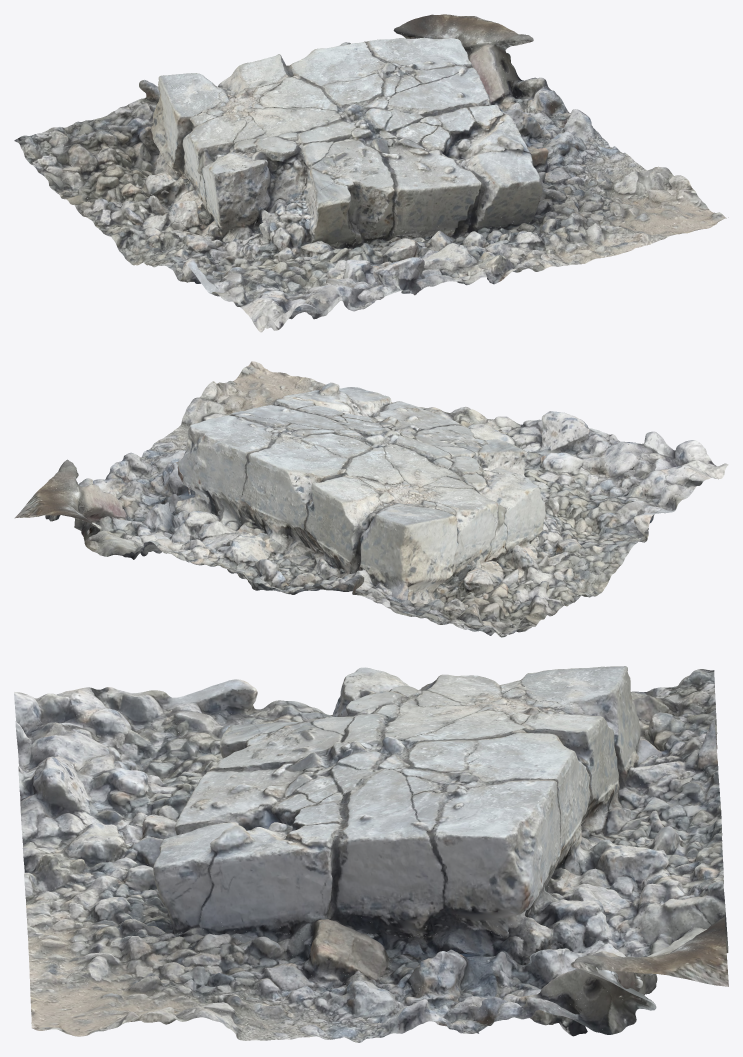
Rendered from cracked_concrete_block2.glb.
The picture shows the model from 3 angles, top to bottom: view 1: azimuth 30°, elevation 25°; view 2: azimuth 150°, elevation 25°; view 3: azimuth 270°, elevation 25°; orthographic projection. The views are drawn at different scales.
Parts seen in each view (by area): view 1: Object_2, Object_3; view 2: Object_2, Object_3; view 3: Object_2, Object_3.
Part boxes in pixels (x1=…): Object_2: x1=14, y1=14, x2=726, y2=332; Object_3: x1=18, y1=14, x2=708, y2=303; Object_2: x1=14, y1=361, x2=728, y2=637; Object_3: x1=34, y1=362, x2=675, y2=637; Object_2: x1=14, y1=666, x2=728, y2=1042; Object_3: x1=26, y1=670, x2=727, y2=1040.
Size of the model in its own units: 11.66 by 2.57 by 10.61.
1 material, 1 textured.
